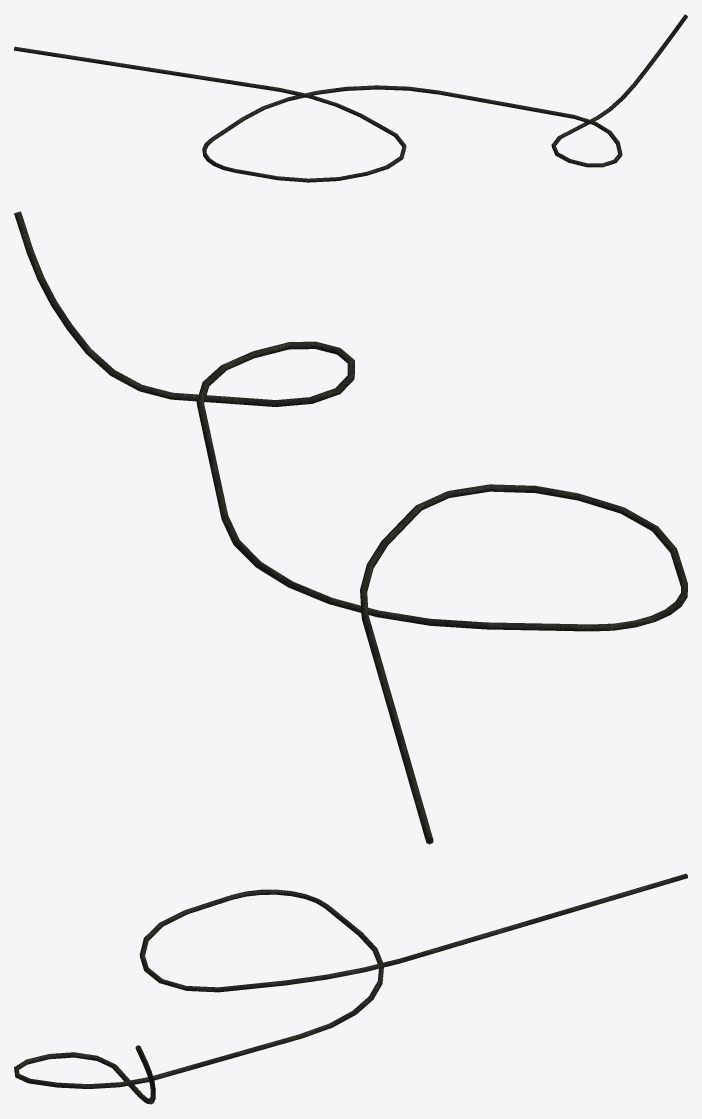
File: Prop_Guitar_Cable.fbx
The picture shows the model from 3 angles, top to bottom: view 1: azimuth 30°, elevation 25°; view 2: azimuth 150°, elevation 25°; view 3: azimuth 270°, elevation 25°; orthographic projection. The views are drawn at different scales.
Parts seen in each view (by area): view 1: Prop_Guitar_Cable; view 2: Prop_Guitar_Cable; view 3: Prop_Guitar_Cable.
Part boxes in pixels (x1,y1,x2,y2): Prop_Guitar_Cable: (14, 14, 687, 182); Prop_Guitar_Cable: (14, 211, 687, 844); Prop_Guitar_Cable: (14, 873, 687, 1104).
Bounding box in the file's own units: 63.1 × 11.44 × 64.82.
